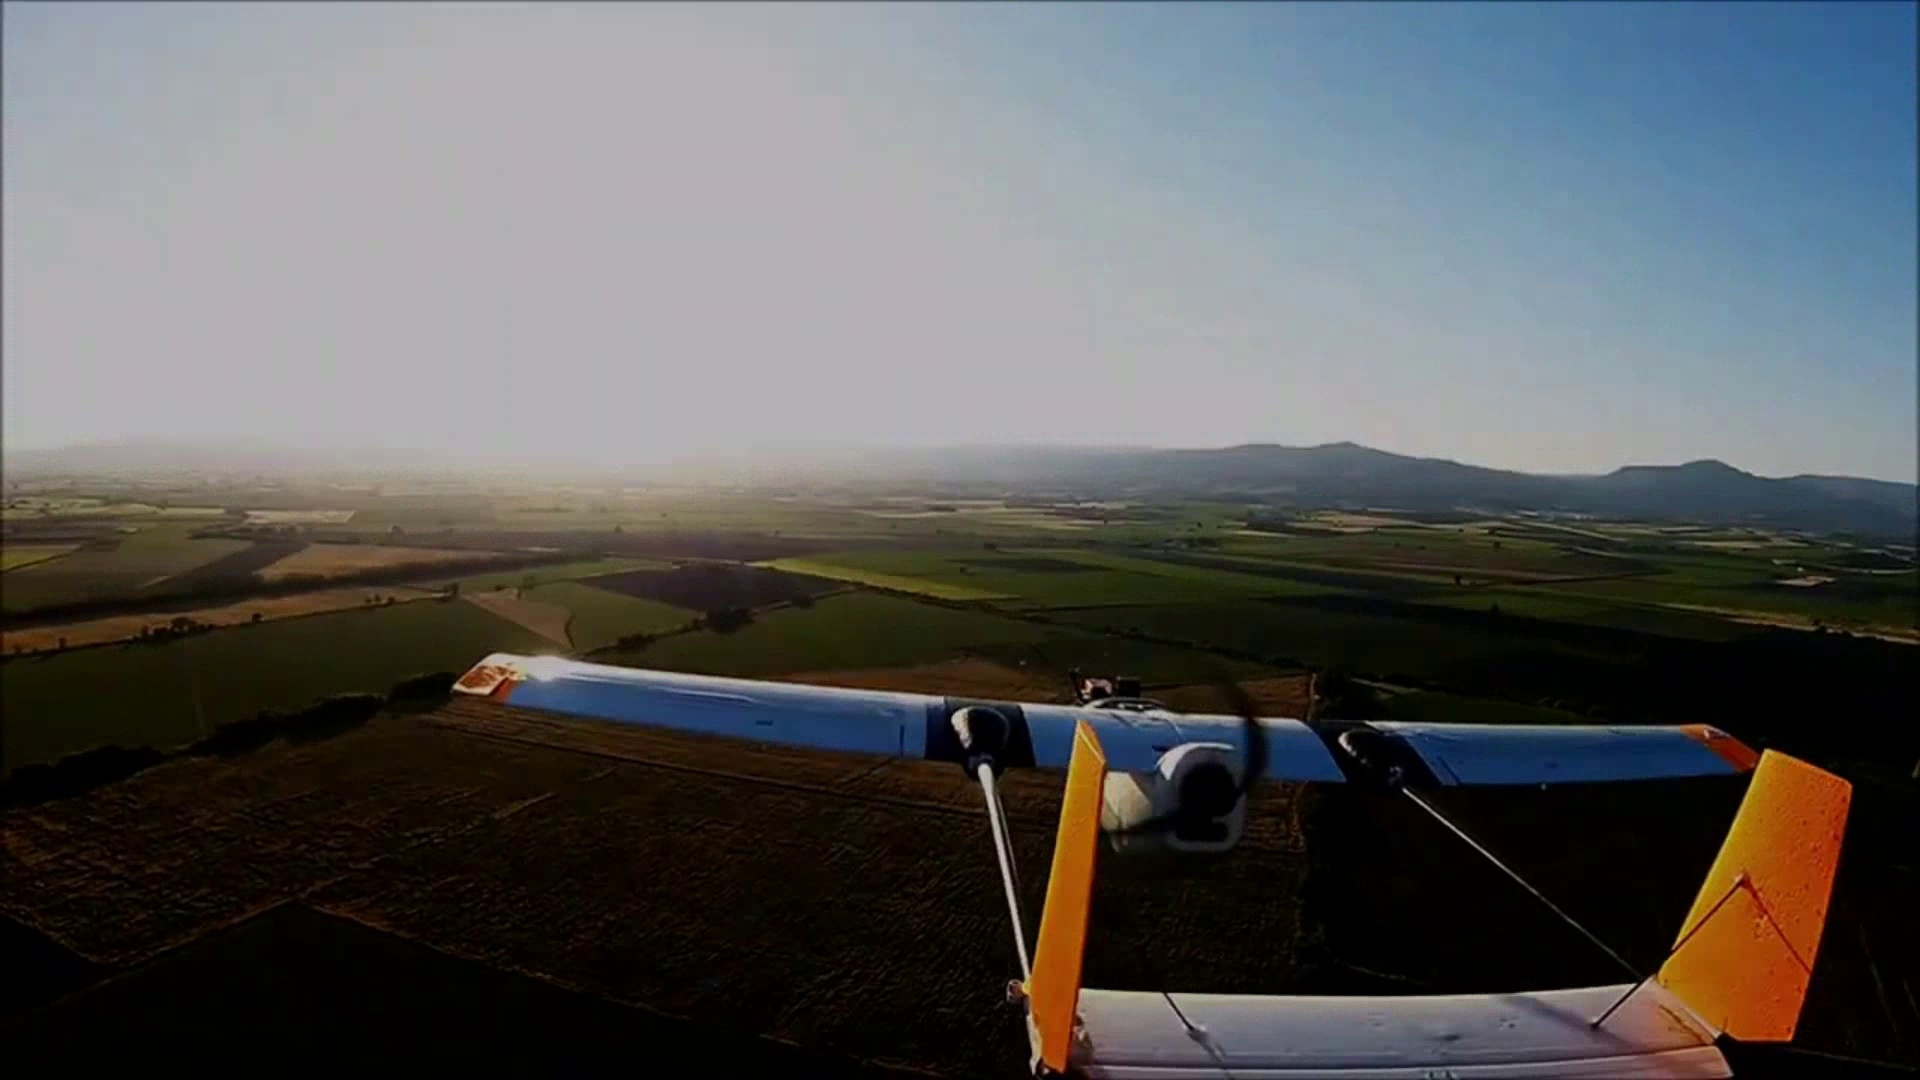airplane: (422, 651, 1915, 1065)
